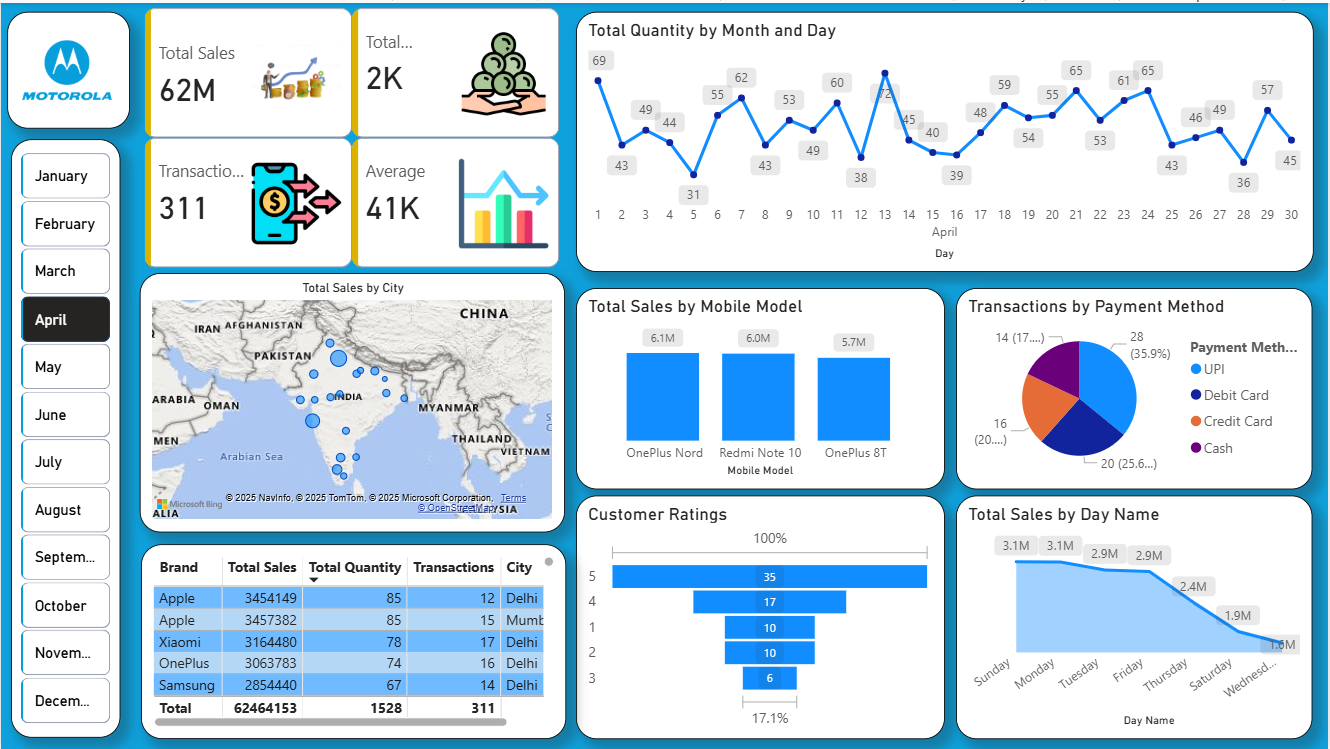

Layout of this report page (visuals, bound fields, positions):
{"tool":"powerbi","page":{"name":"Page 1","canvas":[1280,720],"ordinal":0},"visuals":[{"type":"shape","box":[5.5,8.2,118,112.5],"z":0},{"type":"image","box":[11,8.2,105.7,112.5],"z":1000},{"type":"shape","box":[9.6,131.7,105.7,577.7],"z":2000},{"type":"advancedSlicerVisual","fields":{"Values":["Sales_Data.Date.Variation.Date Hierarchy.Month"]},"box":[14.8,139.5,96.3,563],"z":3000},{"type":"cardVisual","fields":{"Data":["Sales_Data.Total Sales","Sales_Data.Total Quantity","Sales_Data.Transactions","Sales_Data.Average"]},"box":[133.8,0,410.3,260.3],"z":4000},{"type":"map","fields":{"Category":["Sales_Data.City"],"Size":["Sales_Data.Total Sales"]},"box":[133.8,260.3,410.3,250],"z":5000},{"type":"lineChart","fields":{"Y":["Sales_Data.Total Quantity"],"Category":["Sales_Data.Date.Variation.Date Hierarchy.Month","Sales_Data.Date.Variation.Date Hierarchy.Day"]},"box":[554.4,8.8,711.8,251.5],"z":6000},{"type":"columnChart","fields":{"Category":["Sales_Data.Mobile Model"],"Y":["Sales_Data.Total Sales"]},"box":[554.4,275,355.9,194.1],"z":7000},{"type":"pieChart","fields":{"Category":["Sales_Data.Payment Method"],"Y":["Sales_Data.Transactions"]},"box":[922.1,275,344.1,194.1],"z":8000},{"type":"funnel","title":" Customer Ratings","fields":{"Category":["Sales_Data.Customer Ratings"],"Y":["CountNonNull(Sales_Data.Customer Ratings)"]},"box":[554.4,475,355.9,235.3],"z":9000},{"type":"areaChart","fields":{"Category":["Sales_Data.Day Name"],"Y":["Sales_Data.Total Sales"]},"box":[922.1,475,344.1,235.3],"z":10000},{"type":"tableEx","fields":{"Values":["Sales_Data.Brand","Sales_Data.Total Sales","Sales_Data.Total Quantity","Sales_Data.Transactions","Sales_Data.City"]},"box":[135.3,522.1,410.3,188.2],"z":11000}]}

Visuals, with their boxes in screenshot pixels (x1, y1, x2, y2), scaled from the page's 1280x720 canvas onto the 1330x749 screenshot:
shape: left=6, top=9, right=128, bottom=126
image: left=11, top=9, right=121, bottom=126
shape: left=10, top=137, right=120, bottom=738
advancedSlicerVisual - Sales_Data.Date.Variation.Date Hierarchy.Month: left=15, top=145, right=115, bottom=731
cardVisual - Sales_Data.Total Sales x Sales_Data.Total Quantity: left=139, top=0, right=565, bottom=271
map - Sales_Data.City x Sales_Data.Total Sales: left=139, top=271, right=565, bottom=531
lineChart - Sales_Data.Total Quantity x Sales_Data.Date.Variation.Date Hierarchy.Month: left=576, top=9, right=1316, bottom=271
columnChart - Sales_Data.Mobile Model x Sales_Data.Total Sales: left=576, top=286, right=946, bottom=488
pieChart - Sales_Data.Payment Method x Sales_Data.Transactions: left=958, top=286, right=1316, bottom=488
" Customer Ratings" funnel: left=576, top=494, right=946, bottom=739
areaChart - Sales_Data.Day Name x Sales_Data.Total Sales: left=958, top=494, right=1316, bottom=739
tableEx - Sales_Data.Brand x Sales_Data.Total Sales: left=141, top=543, right=567, bottom=739
